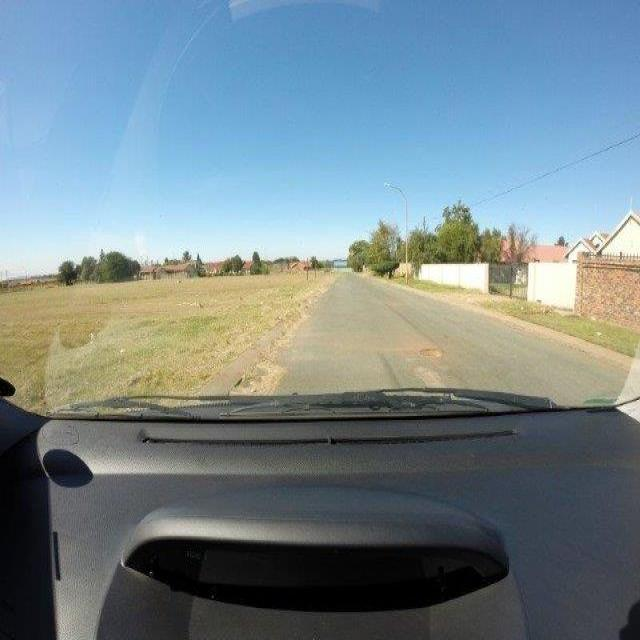lubang: (415, 343, 452, 362)
